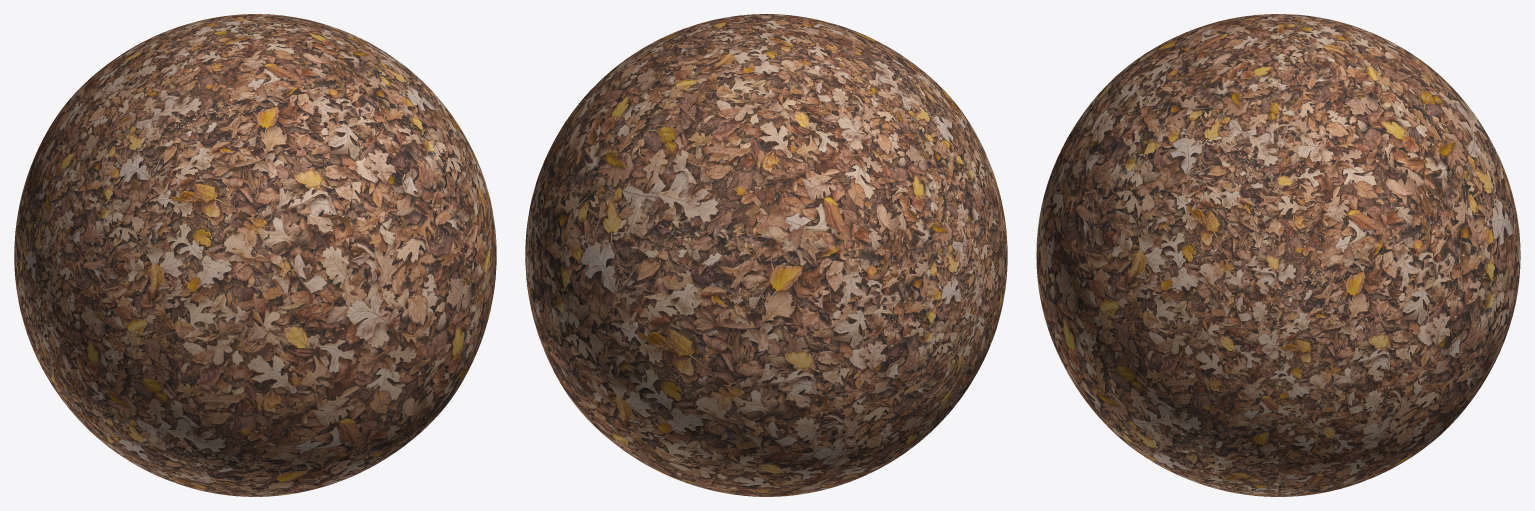
File: forest_ground_08.glb
The picture shows the model from 3 angles, left to right: view 1: azimuth 30°, elevation 25°; view 2: azimuth 150°, elevation 25°; view 3: azimuth 270°, elevation 25°; orthographic projection.
Parts seen in each view (by area): view 1: Object_2; view 2: Object_2; view 3: Object_2.
Boxes of the visible parts, <box> form: Object_2: <box>14,14,496,496</box>; Object_2: <box>525,14,1007,496</box>; Object_2: <box>1036,14,1520,496</box>.
Size of the model in its own units: 1.92 by 1.92 by 1.92.
Materials: 1 (1 with a texture image).
